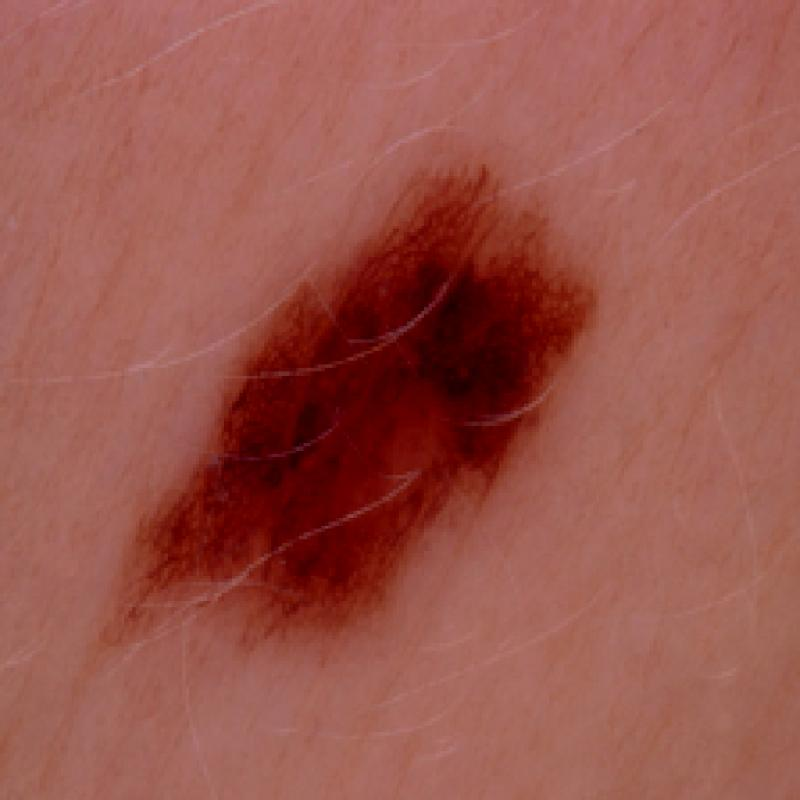benign: (80, 140, 660, 697)
